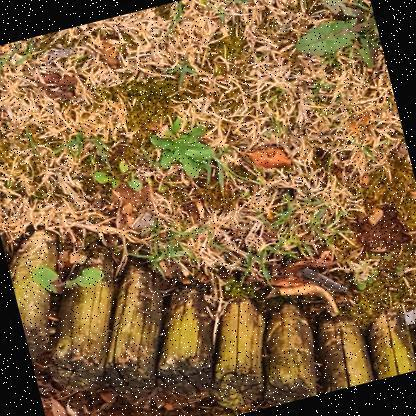Weeds: (280, 0, 387, 90), (147, 112, 220, 187), (31, 253, 107, 304), (94, 158, 144, 202)
